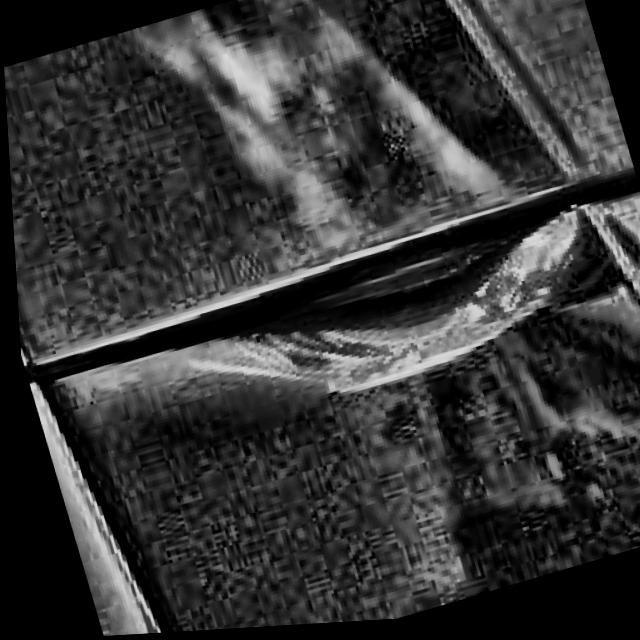door_dent: (174, 180, 614, 436)
